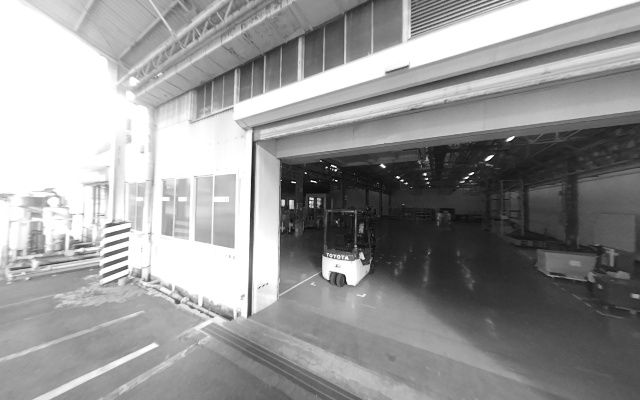bollard: (96, 220, 131, 284)
